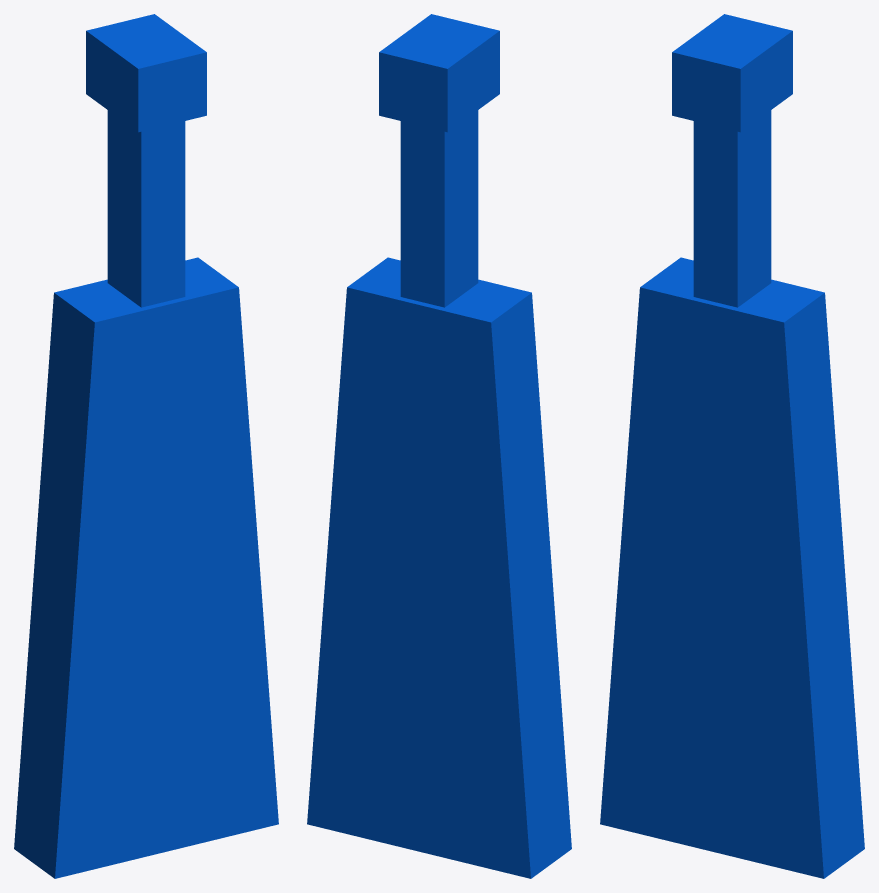
The model's file is lvl2_weapon.fbx.
The picture shows the model from 3 angles, left to right: view 1: azimuth 30°, elevation 25°; view 2: azimuth 150°, elevation 25°; view 3: azimuth 330°, elevation 25°; orthographic projection.
Visible parts, largest first — view 1: pCube22; view 2: pCube22; view 3: pCube22.
Part boxes in pixels (x1,y1,x2,y2): pCube22: (14, 14, 278, 878); pCube22: (307, 14, 571, 878); pCube22: (600, 14, 864, 878).
Bounding box in the file's own units: 26.31 × 89.24 × 10.63.
